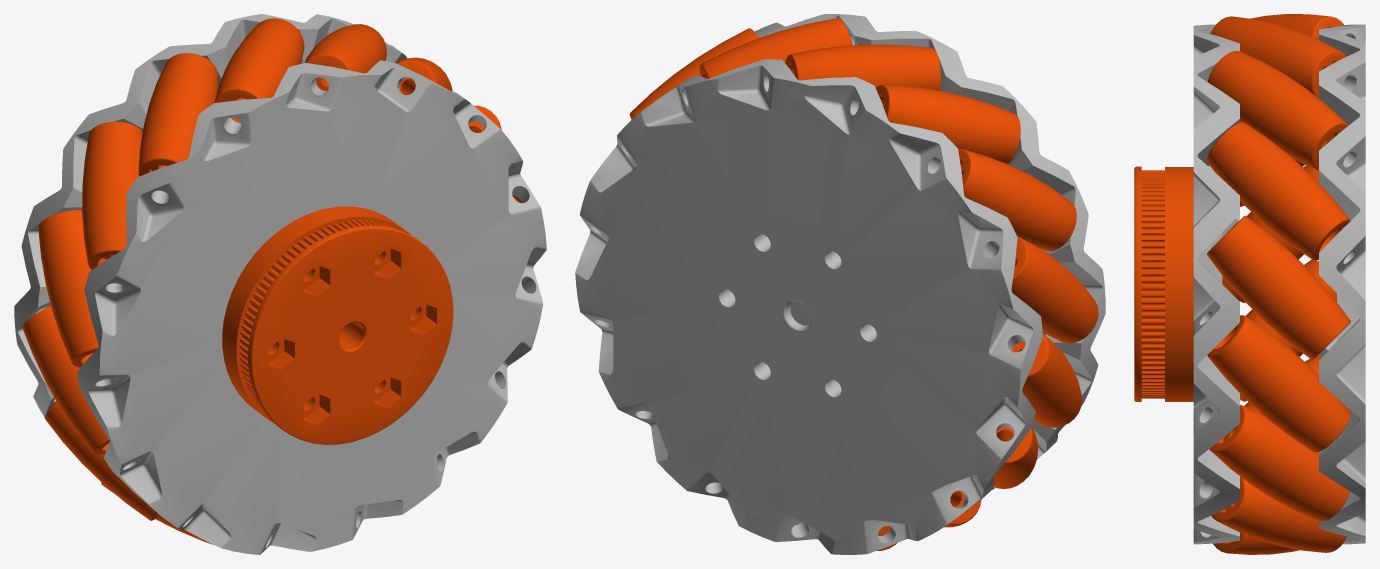
The model's file is wheel_front_left_1.dae.
The picture shows the model from 3 angles, left to right: view 1: azimuth 30°, elevation 25°; view 2: azimuth 150°, elevation 25°; view 3: azimuth 270°, elevation 25°; orthographic projection.
Visible parts, largest first — view 1: wheel_front_left_1; view 2: wheel_front_left_1; view 3: wheel_front_left_1.
Boxes of the visible parts, box(x1,y1,x2,y2) form: wheel_front_left_1: box(14, 14, 546, 554); wheel_front_left_1: box(575, 14, 1105, 554); wheel_front_left_1: box(1134, 14, 1365, 554).
Size of the model in its own units: 151 by 64.5 by 151.
